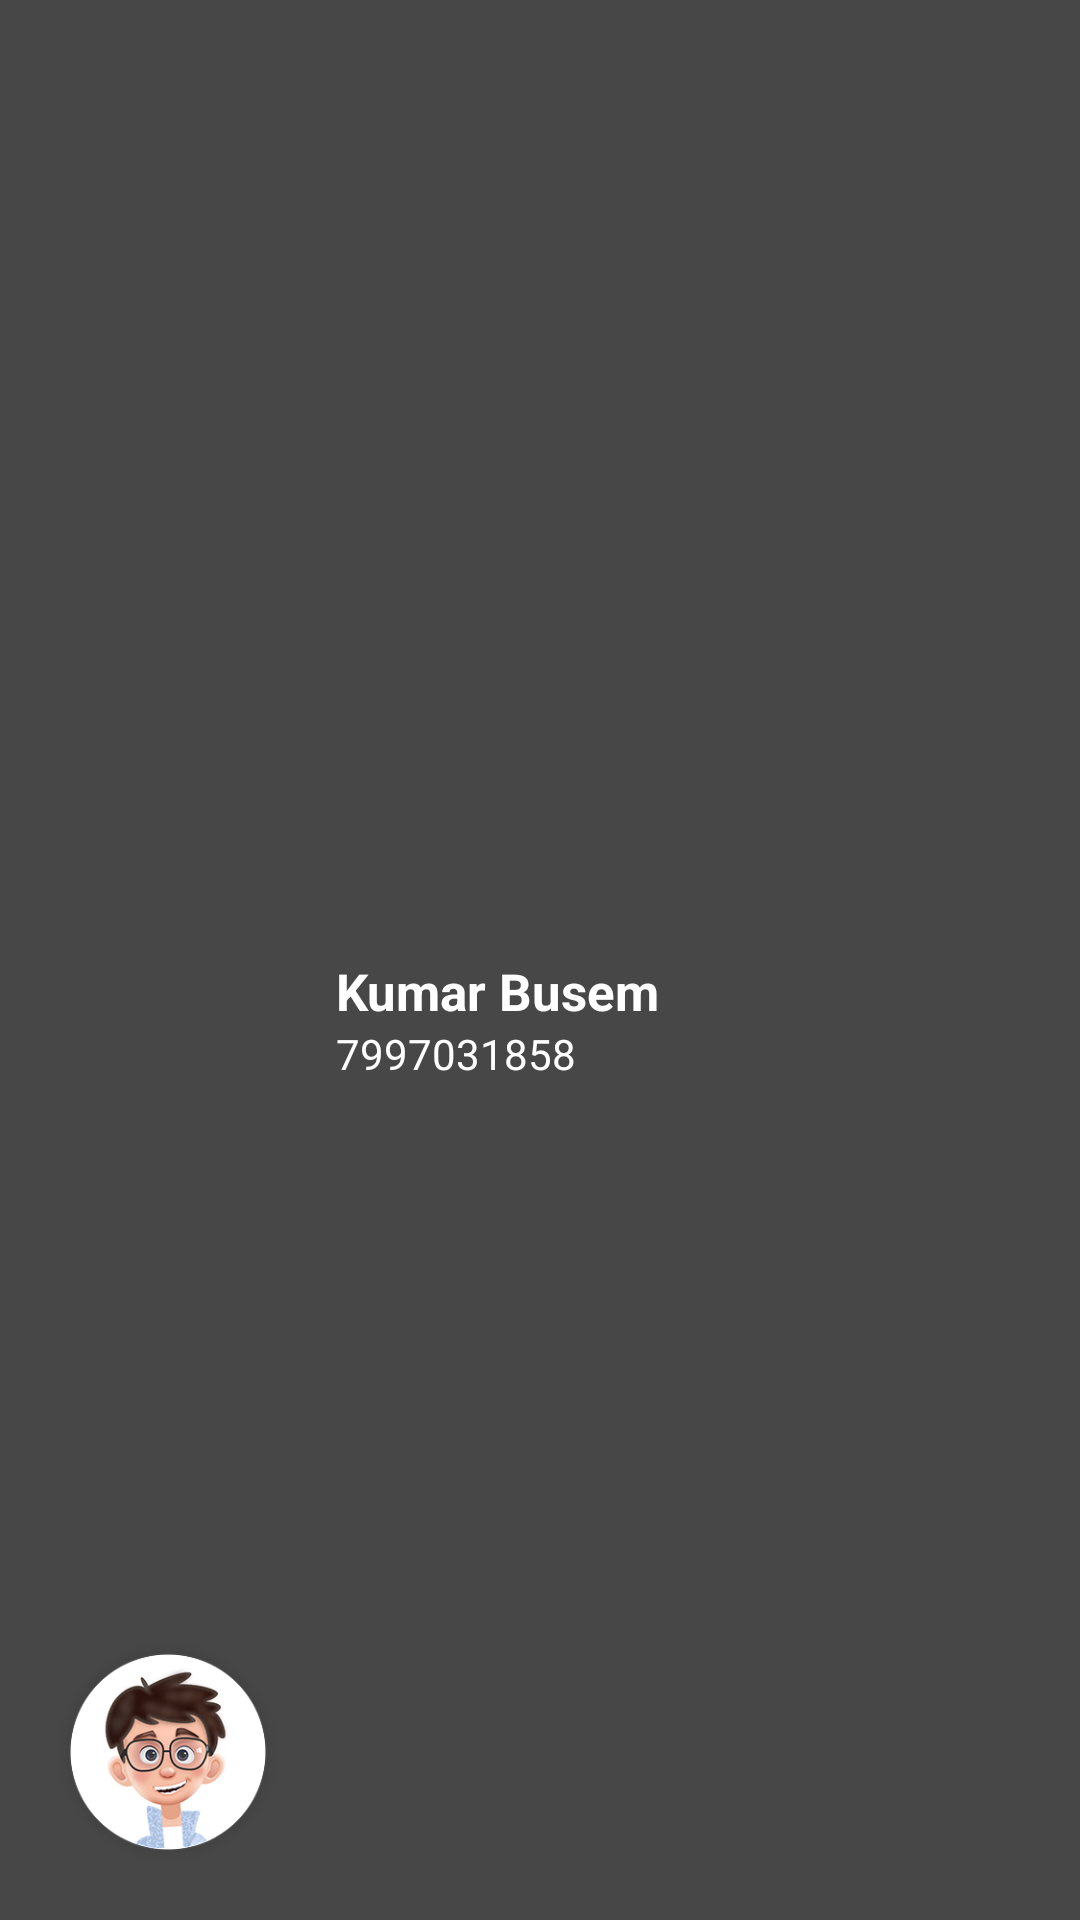

Named icons in this screenshot (1080px x 1920px) and their bounding boxes, (x1, y1, x2, y2):
profile menu: (70, 1654, 266, 1850)
